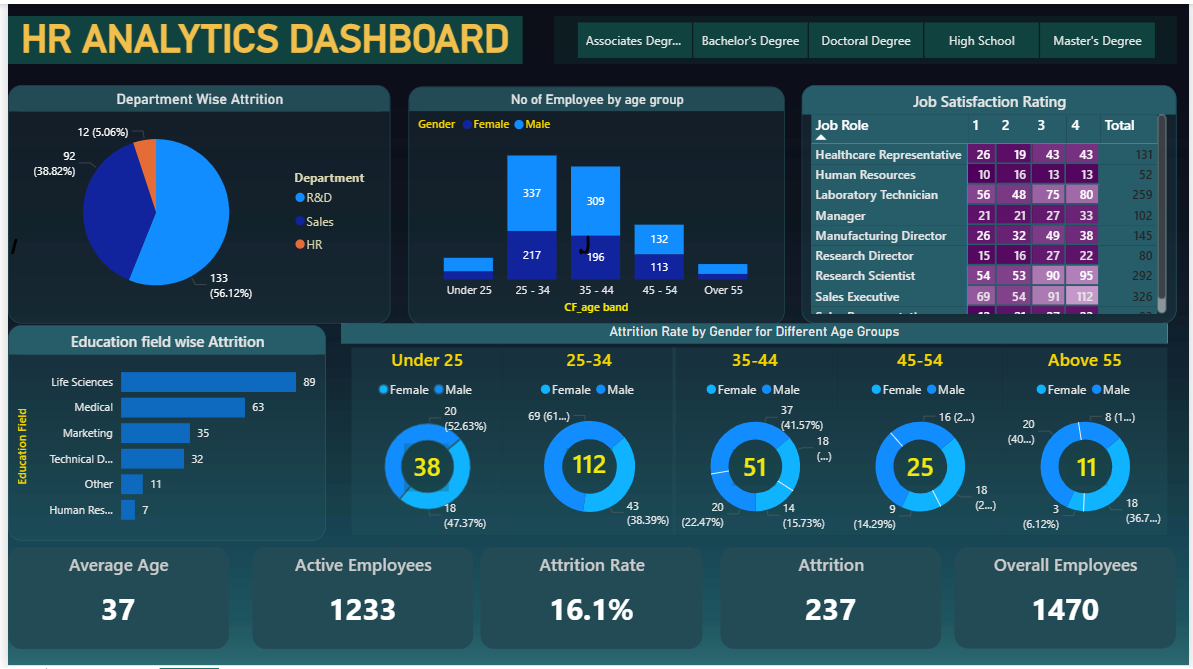

The dashboard page shown, as its layout file describes it:
{"tool":"powerbi","page":{"name":"Page 1","canvas":[1280,720],"ordinal":0},"visuals":[{"type":"card","title":"Overall Employees","fields":{"Values":["Sum(HR data.Employee Count)"]},"box":[1027.1,588.6,240,110],"z":0},{"type":"card","title":"Attrition","fields":{"Values":["Sum(HR data.Attrition Count)"]},"box":[772.6,588.8,239.1,110.6],"z":1000},{"type":"card","title":"Attrition Rate","fields":{"Values":["HR data.Attrition Rate"]},"box":[512.4,588.8,240.7,110.6],"z":2000},{"type":"card","title":"Active Employees","fields":{"Values":["HR data.Active Employees"]},"box":[265.1,588.8,239.1,110.6],"z":3000},{"type":"card","title":"Average Age","fields":{"Values":["Avg(HR data.Age)"]},"box":[0,588.8,239.1,110.6],"z":4000},{"type":"pieChart","title":" Department Wise Attrition","fields":{"Category":["HR data.Department"],"Y":["Sum(HR data.Attrition Count)"]},"box":[0,87.8,414.8,258.6],"z":5000},{"type":"columnChart","title":"No of Employee by age group","fields":{"Category":["HR data.CF_age band"],"Y":["Sum(HR data.Employee Count)"],"Series":["HR data.Gender"]},"box":[434.3,89.5,408.3,258.6],"z":6000},{"type":"pivotTable","title":"Job Satisfaction Rating","fields":{"Rows":["HR data.Job Role"],"Columns":["HR data.Job Satisfaction"],"Values":["Sum(HR data.Employee Count)"]},"box":[860.4,87.8,406.6,258.6],"z":7000},{"type":"barChart","title":"Education field wise Attrition","fields":{"Category":["HR data.Education Field"],"Y":["Sum(HR data.Attrition Count)"]},"box":[0,348.1,344.8,234.2],"z":8000},{"type":"donutChart","title":"Under 25","fields":{"Category":["HR data.Gender"],"Y":["Sum(HR data.Attrition Count)"],"Series":["HR data.CF_age band"]},"box":[372.5,372.5,164.3,203.3],"z":9000},{"type":"textbox","title":"Attrition Rate by Gender for Different Age Groups","box":[361.1,346.5,896.2,21.1],"z":10000},{"type":"donutChart","title":"25-34","fields":{"Category":["HR data.Gender"],"Y":["Sum(HR data.Attrition Count)"],"Series":["HR data.CF_age band"]},"box":[536.8,372.5,187.1,203.3],"z":11000},{"type":"donutChart","title":"35-44","fields":{"Category":["HR data.Gender"],"Y":["Sum(HR data.Attrition Count)"],"Series":["HR data.CF_age band"]},"box":[720.6,372.5,178.9,203.3],"z":12000},{"type":"donutChart","title":"45-54","fields":{"Category":["HR data.Gender"],"Y":["Sum(HR data.Attrition Count)"],"Series":["HR data.CF_age band"]},"box":[899.5,372.5,178.9,203.3],"z":13000},{"type":"donutChart","title":"Above 55","fields":{"Category":["HR data.Gender"],"Y":["Sum(HR data.Attrition Count)"],"Series":["HR data.CF_age band"]},"box":[1078.4,372.5,178.9,203.3],"z":14000},{"type":"card","fields":{"Values":["Sum(HR data.Attrition Count)"]},"box":[429.4,476.6,48.8,52],"z":15000},{"type":"card","fields":{"Values":["Sum(HR data.Attrition Count)"]},"box":[605.1,481.5,50.4,34.2],"z":16000},{"type":"card","fields":{"Values":["Sum(HR data.Attrition Count)"]},"box":[785.6,483.1,47.2,39],"z":17000},{"type":"card","fields":{"Values":["Sum(HR data.Attrition Count)"]},"box":[966.2,483.1,45.5,39],"z":18000},{"type":"card","fields":{"Values":["Sum(HR data.Attrition Count)"]},"box":[1146.7,483.1,45.5,39],"z":19000},{"type":"textbox","title":"HR ANALYTICS DASHBOARD","box":[0,13,557.9,52],"z":19001},{"type":"slicer","fields":{"Values":["HR data.Education"]},"box":[592.1,13,675,52],"z":19002}]}

Visuals, with their boxes in screenshot pixels (x1, y1, x2, y2), scaled from the page's 1280x720 canvas onto the 1193x669 screenshot:
"Overall Employees" card: Rect(957, 547, 1181, 649)
"Attrition" card: Rect(720, 547, 943, 650)
"Attrition Rate" card: Rect(478, 547, 702, 650)
"Active Employees" card: Rect(247, 547, 470, 650)
"Average Age" card: Rect(0, 547, 223, 650)
" Department Wise Attrition" pieChart: Rect(0, 82, 387, 322)
"No of Employee by age group" columnChart: Rect(405, 83, 785, 323)
"Job Satisfaction Rating" pivotTable: Rect(802, 82, 1181, 322)
"Education field wise Attrition" barChart: Rect(0, 323, 321, 541)
"Under 25" donutChart: Rect(347, 346, 500, 535)
"Attrition Rate by Gender for Different Age Groups" textbox: Rect(337, 322, 1172, 342)
"25-34" donutChart: Rect(500, 346, 675, 535)
"35-44" donutChart: Rect(672, 346, 838, 535)
"45-54" donutChart: Rect(838, 346, 1005, 535)
"Above 55" donutChart: Rect(1005, 346, 1172, 535)
card - Sum(HR data.Attrition Count): Rect(400, 443, 446, 491)
card - Sum(HR data.Attrition Count): Rect(564, 447, 611, 479)
card - Sum(HR data.Attrition Count): Rect(732, 449, 776, 485)
card - Sum(HR data.Attrition Count): Rect(901, 449, 943, 485)
card - Sum(HR data.Attrition Count): Rect(1069, 449, 1111, 485)
"HR ANALYTICS DASHBOARD" textbox: Rect(0, 12, 520, 60)
slicer - HR data.Education: Rect(552, 12, 1181, 60)
